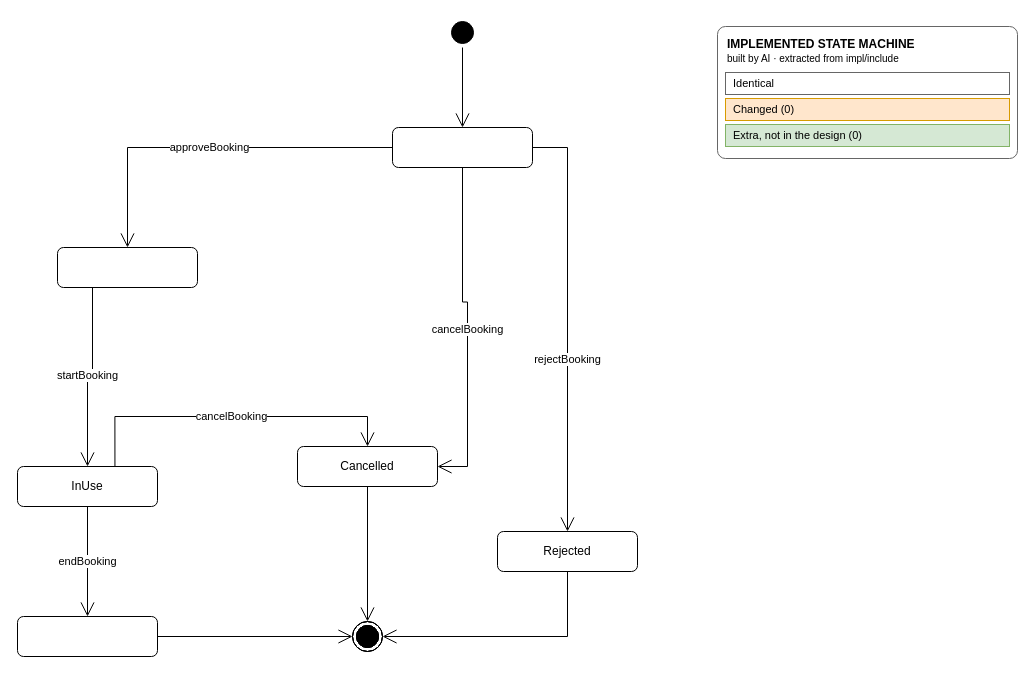
Some shapes in this 1035 by 674 pixel diagram are drawn without their labels. The shapes that lost their labels are listed below. From the top down, each one's centre as x and y in pixels, then its label:
the point at 462,147: Pending
the point at 127,267: Approved
the point at 87,636: Finished
